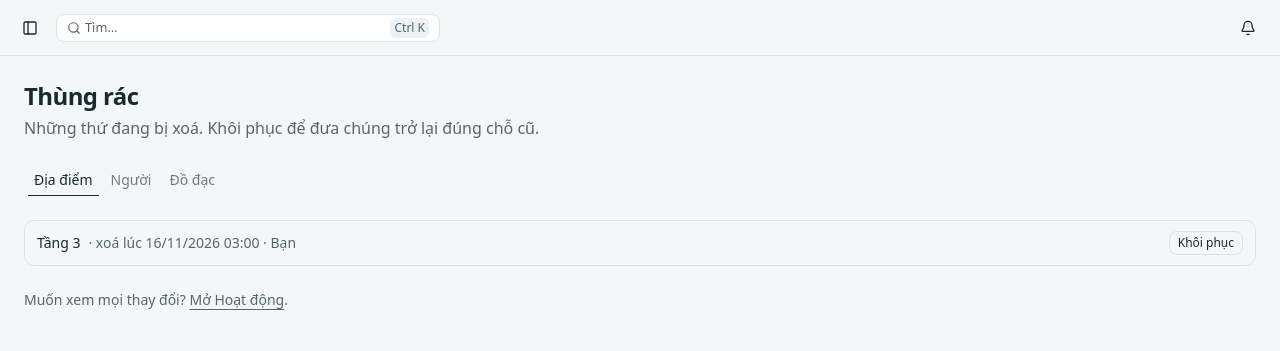
Scenario: blockedRestoreShowsTheReasonAndKeepsTheRow
Click the button with aria-label "Khôi phục Tầng 3": (1206,243) [1169,231,1243,255]
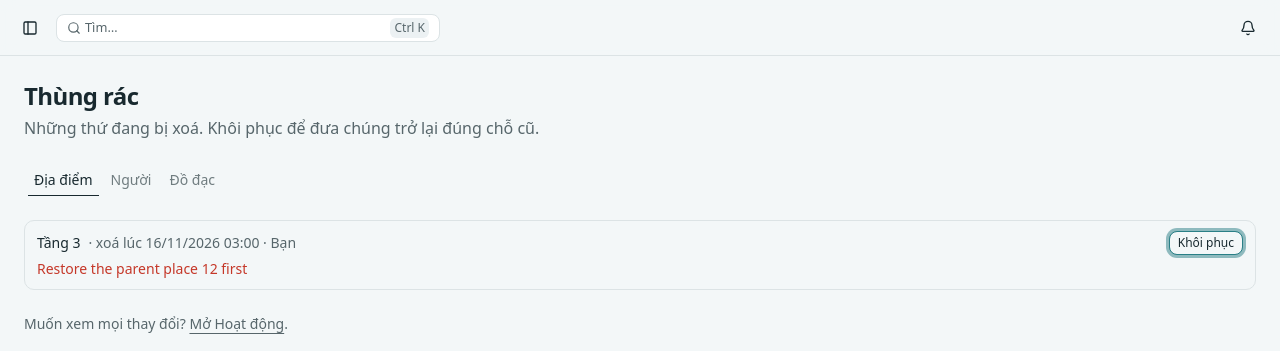
Expected: the text "Tầng 3" is shown, [37,233,80,253]
Result: the text "Restore the parent place 12 first" is shown at [37,259,247,278]
